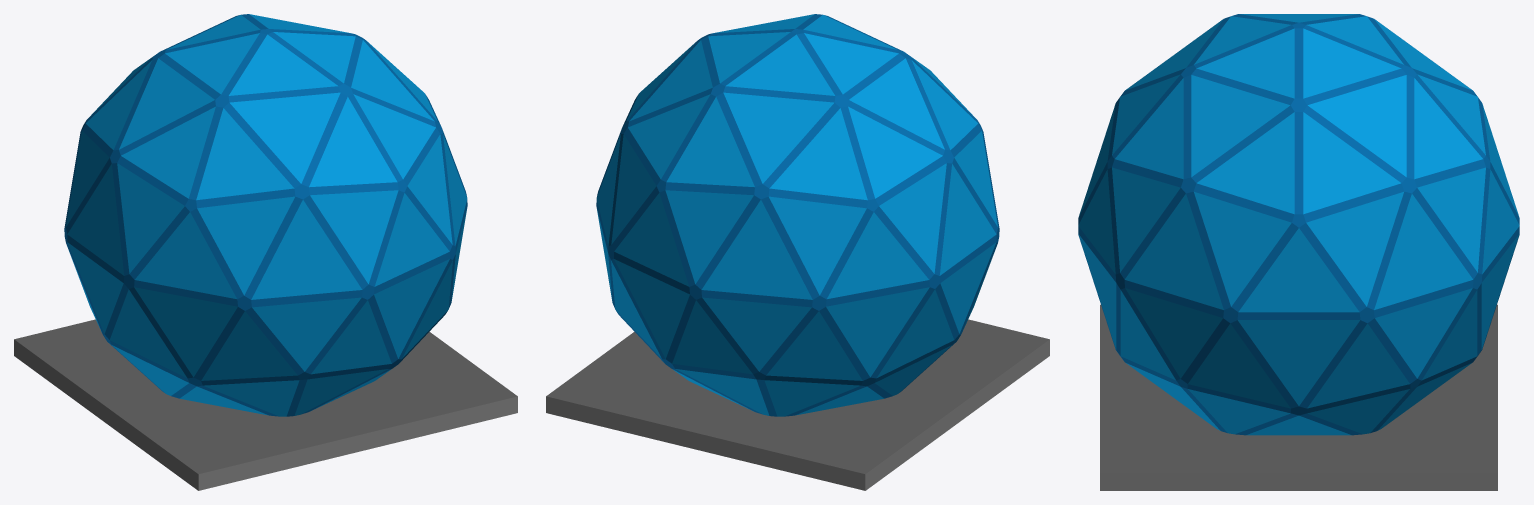
Rendered from Roof3.glb.
3 views of the same model, side by side, from view 1: azimuth 30°, elevation 25°; view 2: azimuth 150°, elevation 25°; view 3: azimuth 270°, elevation 25° (orthographic). The views are drawn at different scales.
Parts seen in each view (by area): view 1: Icosphere, Cube; view 2: Icosphere, Cube; view 3: Icosphere, Cube.
Boxes of the visible parts, x1,y1,x2,y2 form: Icosphere: [64, 14, 467, 416]; Cube: [14, 319, 517, 490]; Icosphere: [596, 14, 999, 416]; Cube: [546, 319, 1049, 490]; Icosphere: [1078, 14, 1519, 435]; Cube: [1100, 304, 1497, 490].
Size of the model in its own units: 17.07 by 16.89 by 17.75.
Materials: 2 (2 with a texture image).
